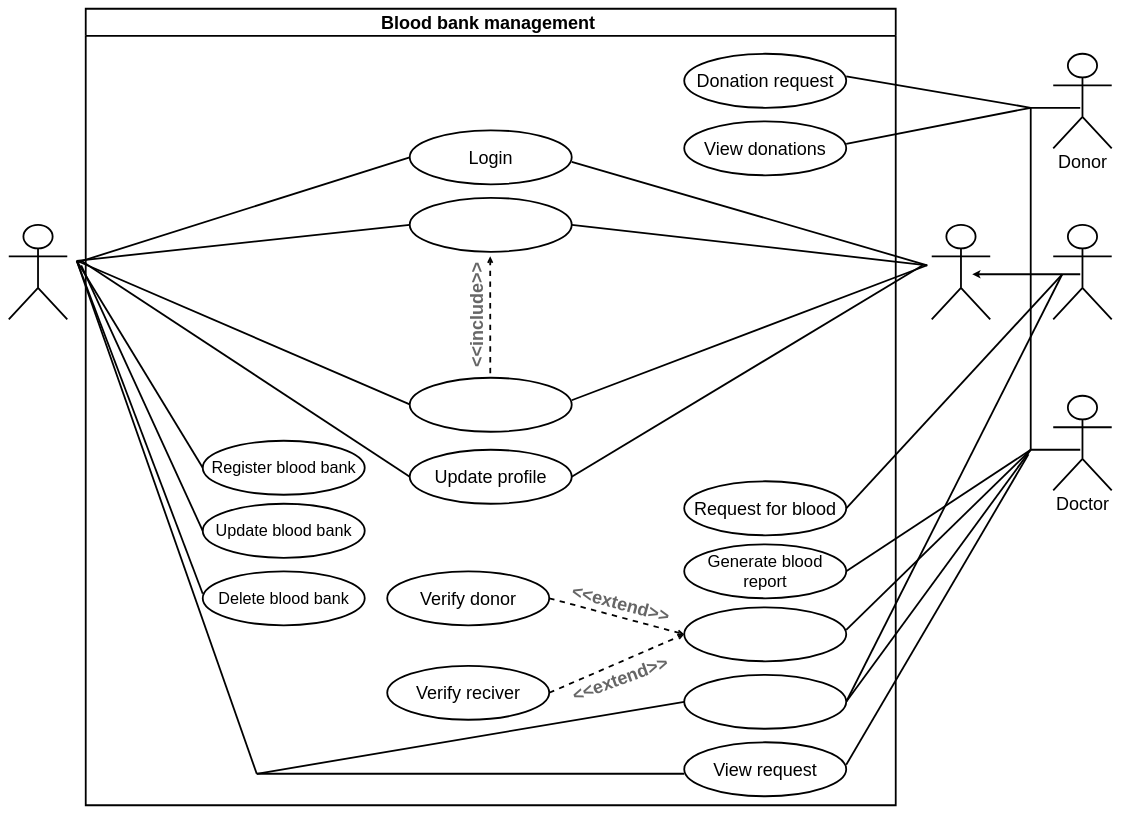
The diagram is 1121 pixels wide and 814 high, and some of its shapes have lost their labels. The shapes that lost their labels are listed below. From the top down, each one's centre as x and y in pixels, then its label:
At point (490, 224): "Register".
At point (38, 272): "Admin".
At point (961, 272): "Member".
At point (1082, 272): "Reciver".
At point (490, 404): "Delete profile".
At point (765, 634): "Verify".
At point (765, 701): "Check blood availability".
